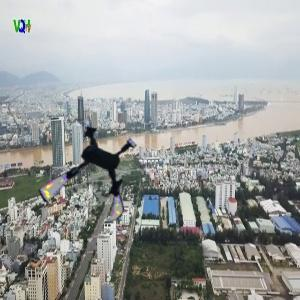drone: (38, 121, 145, 228)
